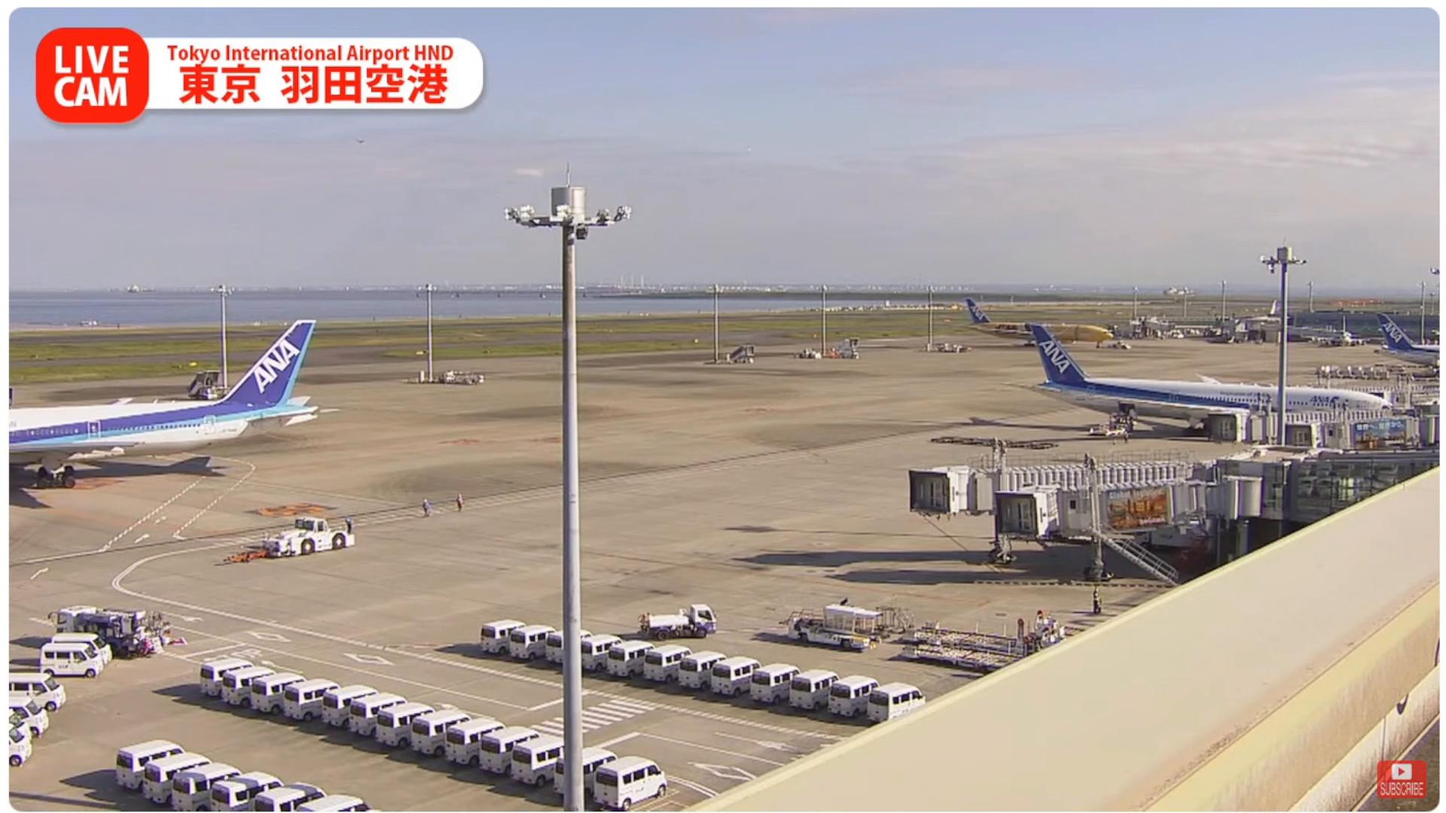APS: (267, 517, 370, 557)
Aerobridge: (885, 461, 1213, 512), (956, 480, 1243, 535)
Airplane: (8, 315, 345, 484)
JCPL: (907, 616, 1080, 676)
Skyloader: (773, 607, 898, 644)
Window: (1270, 448, 1442, 536)
